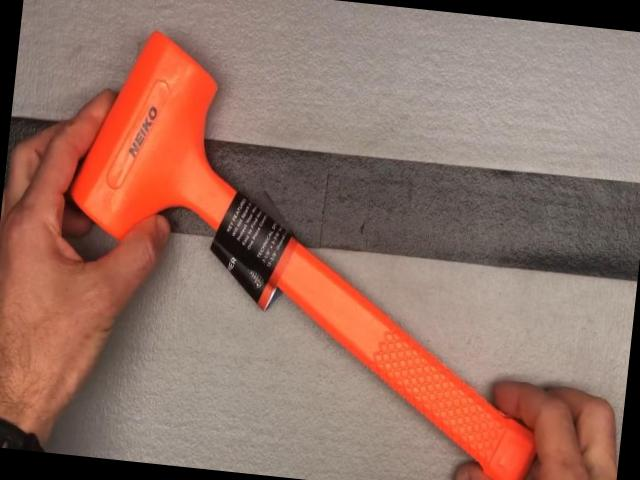hammer: (41, 25, 579, 480)
